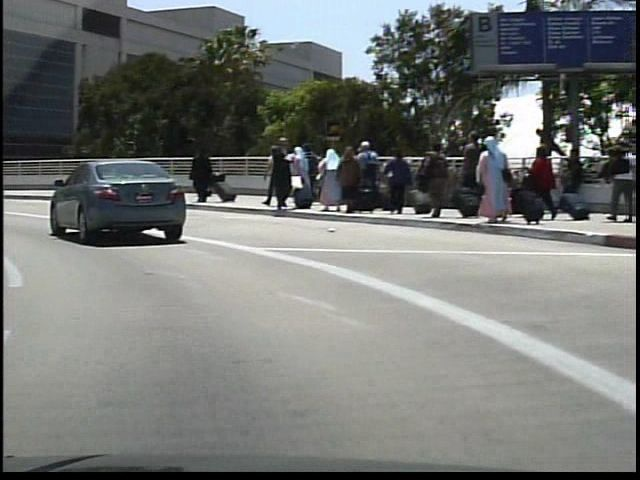person: (594, 137, 630, 224), (263, 136, 290, 211), (258, 143, 283, 211), (186, 146, 211, 206), (196, 153, 216, 198)
